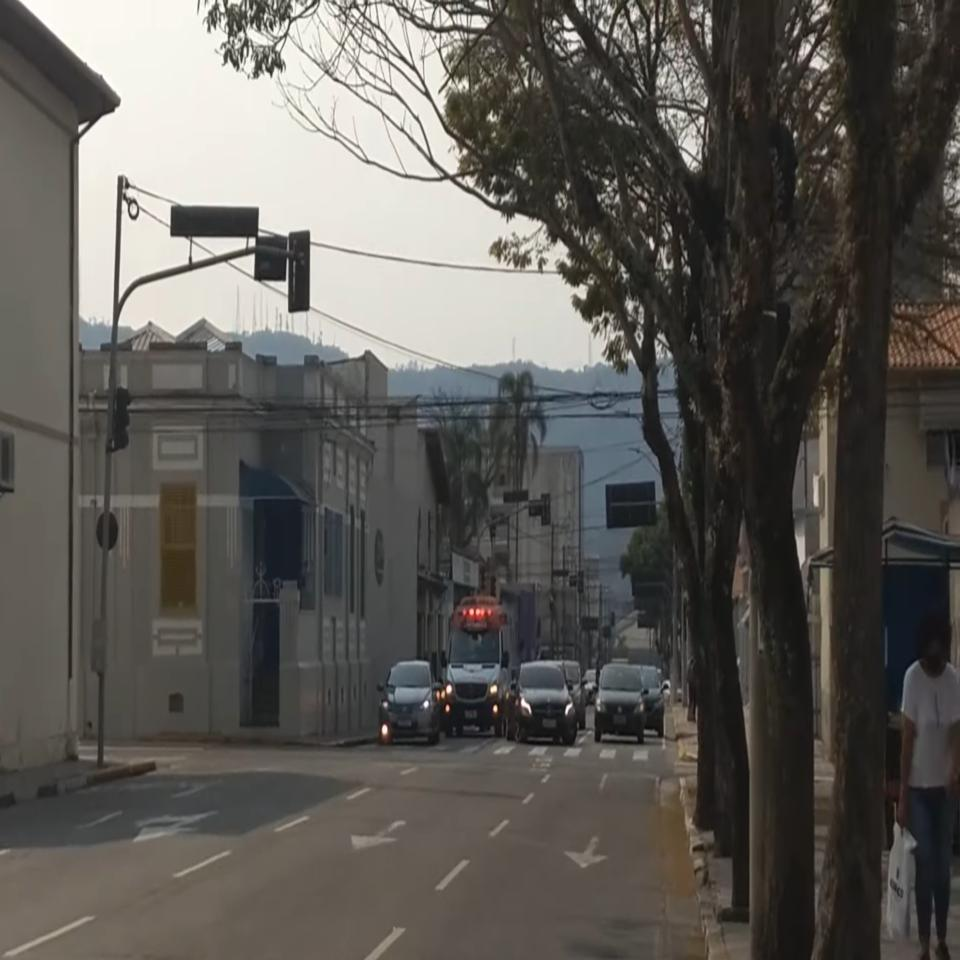bombeiro: (443, 595, 514, 736)
